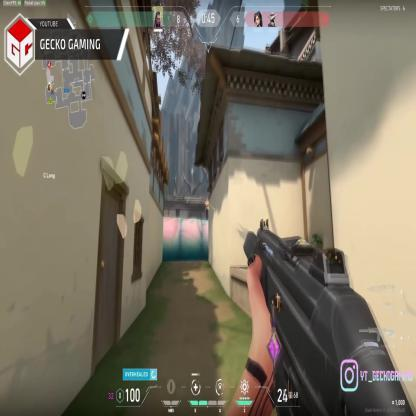enemy: (204, 198, 210, 220)
enemy_head: (206, 197, 209, 202)
